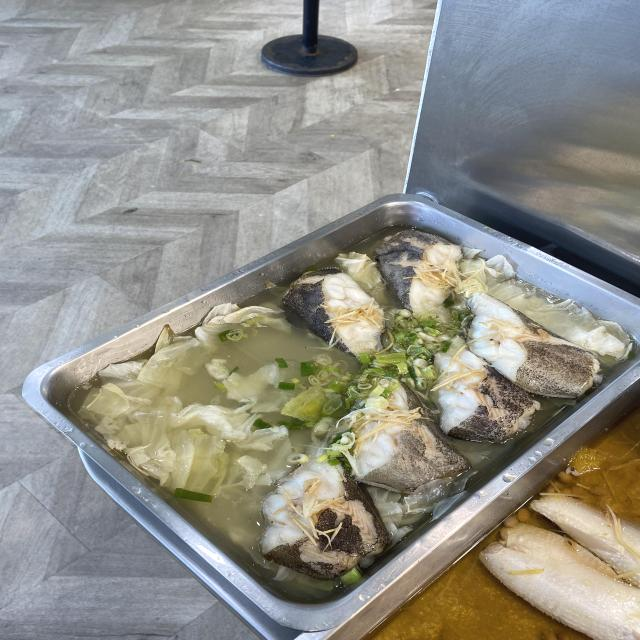Steamed fish: (298, 278, 536, 431)
